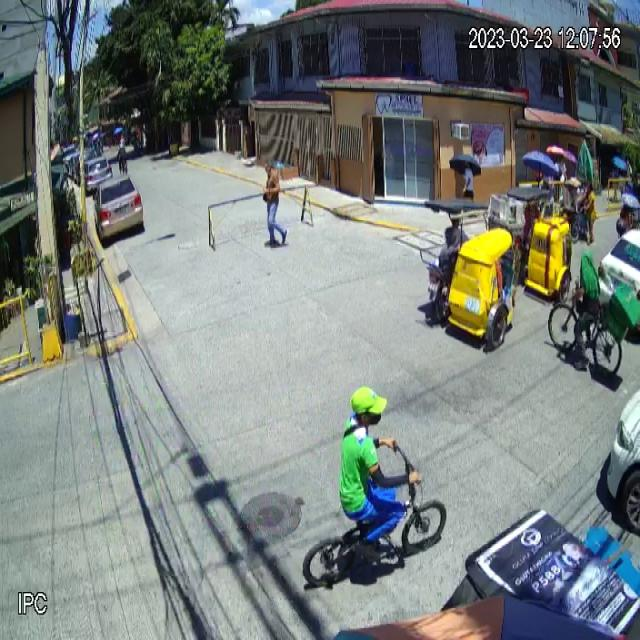Car: (93, 172, 144, 245)
Tricycle: (419, 196, 513, 352), (507, 184, 573, 306)
